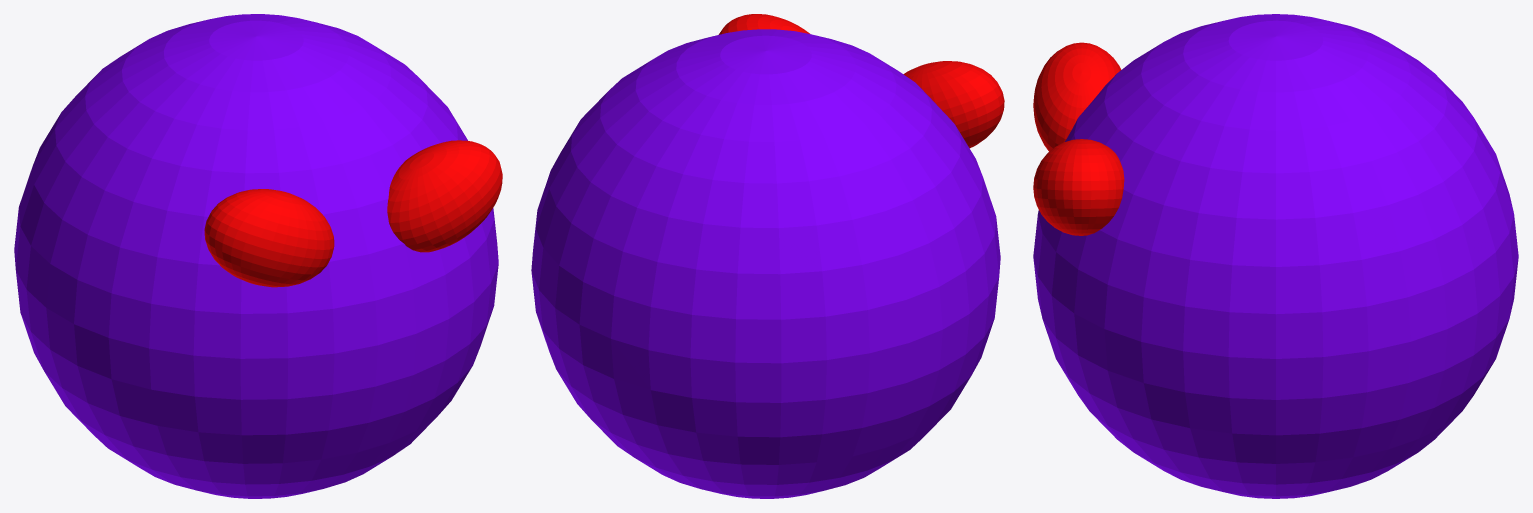
File: normalEnemy.gltf
3 renders of one model, left to right at view 1: azimuth 30°, elevation 25°; view 2: azimuth 150°, elevation 25°; view 3: azimuth 270°, elevation 25°, orthographic. The views are drawn at different scales.
Parts seen in each view (by area): view 1: body, rightEye, leftEye; view 2: body, rightEye, leftEye; view 3: body, leftEye, rightEye.
Part boxes in pixels (box(x1,y1,x2,y2)): body: box(14, 14, 498, 498); rightEye: box(204, 189, 334, 287); leftEye: box(387, 140, 502, 252); body: box(531, 29, 1000, 498); rightEye: box(903, 61, 1004, 148); leftEye: box(718, 14, 809, 34); body: box(1033, 14, 1518, 498); leftEye: box(1033, 139, 1124, 235); rightEye: box(1033, 42, 1121, 151).
Size of the model in its own units: 2 by 2 by 2.
